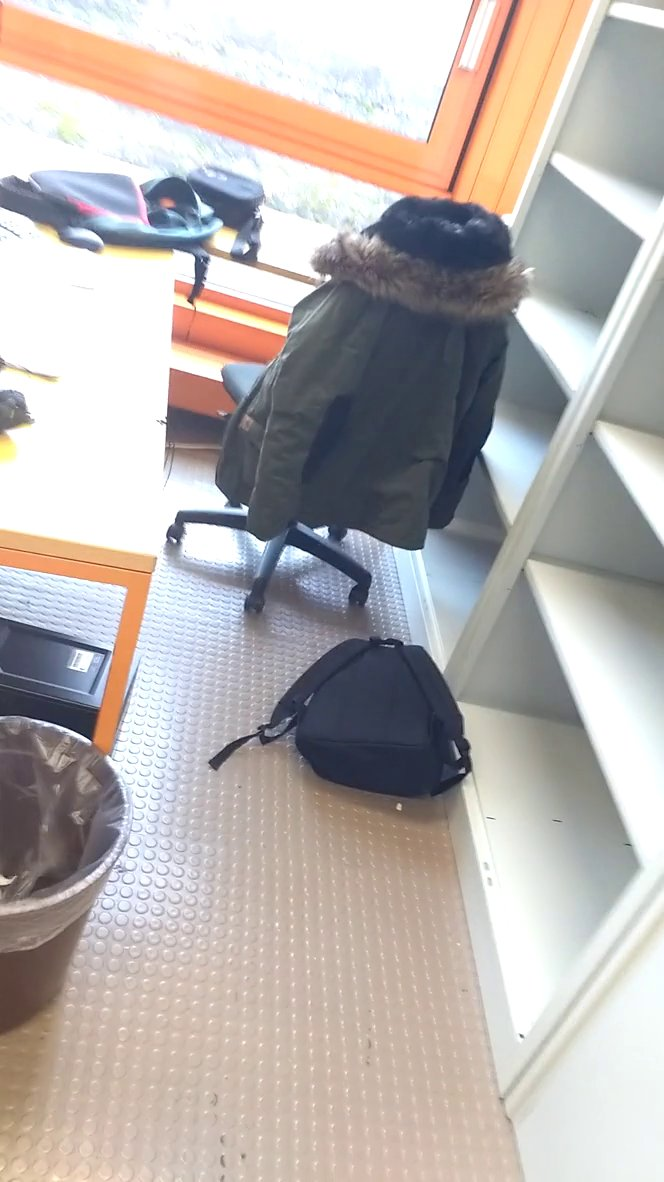bag: (199, 629, 479, 807)
bin: (1, 701, 136, 1066)
